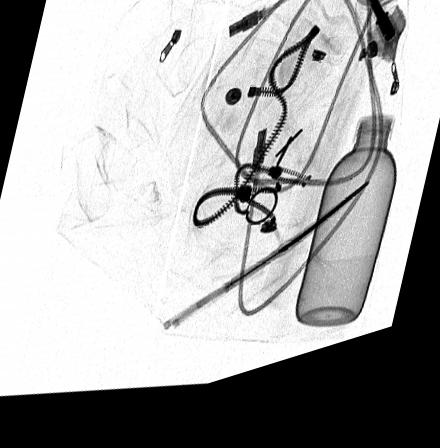Scissors: (161, 195, 371, 345)
